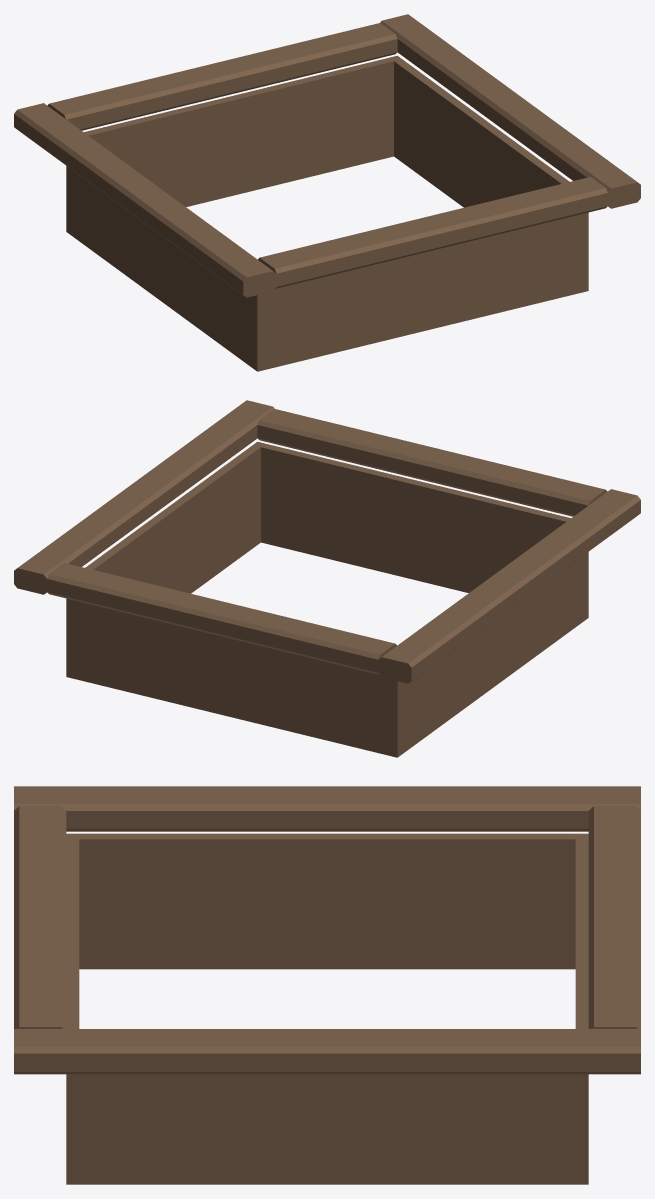
The model's file is trapdoor_frame.glb.
3 views of the same model, one above another, from view 1: azimuth 30°, elevation 25°; view 2: azimuth 150°, elevation 25°; view 3: azimuth 270°, elevation 25° (orthographic). The views are drawn at different scales.
Visible parts, largest first — view 1: trapdoor_frame; view 2: trapdoor_frame; view 3: trapdoor_frame.
Part boxes in pixels (box(x1,y1,x2,y2)): trapdoor_frame: box(14, 14, 640, 371); trapdoor_frame: box(14, 400, 640, 757); trapdoor_frame: box(14, 786, 640, 1184).
Bounding box in the file's own units: 1.44 × 0.4 × 1.44.
